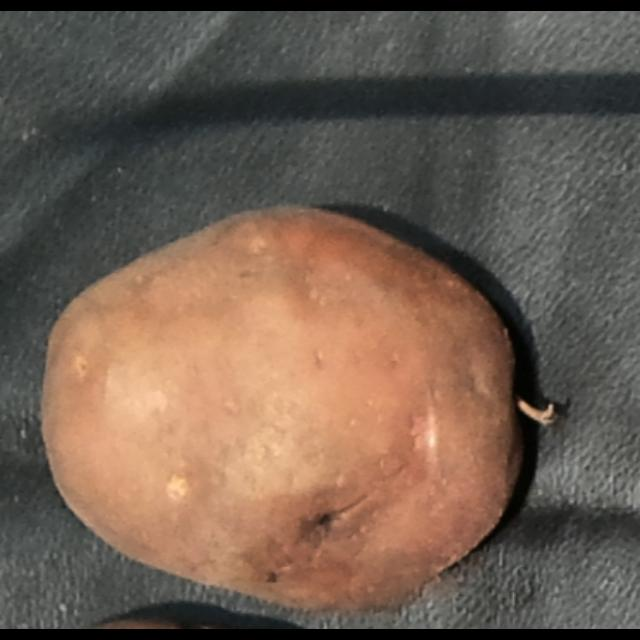Defected potato: (32, 187, 558, 619)
